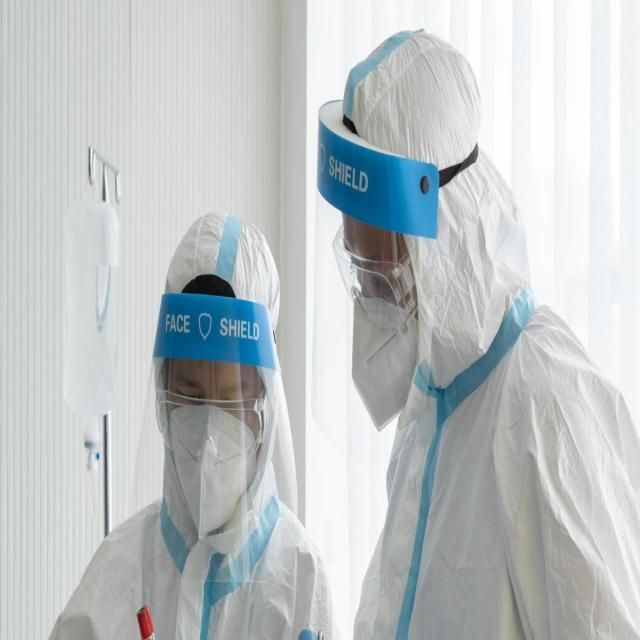Coverall: (287, 8, 639, 640), (110, 152, 307, 640)
Goggles: (130, 354, 293, 455), (322, 223, 433, 323)
Mask: (338, 284, 427, 444), (173, 405, 263, 535)
